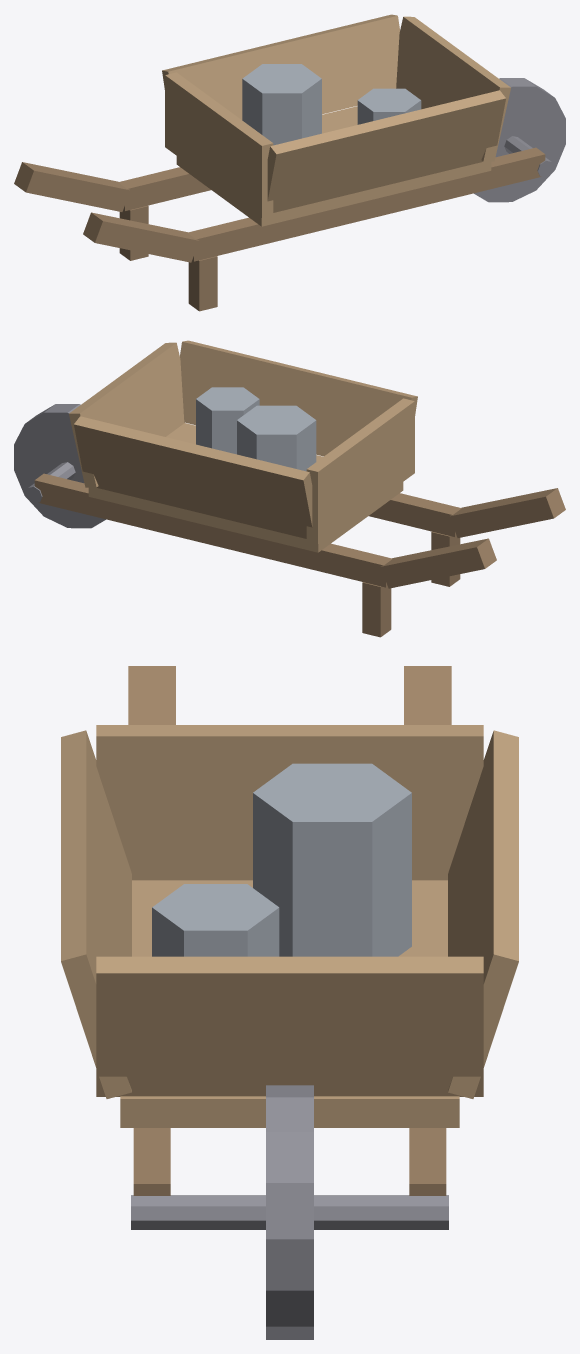
Rendered from 35-Mineria_carretilla_minero.glb.
The picture shows the model from 3 angles, top to bottom: view 1: azimuth 30°, elevation 25°; view 2: azimuth 150°, elevation 25°; view 3: azimuth 270°, elevation 25°; orthographic projection. The views are drawn at different scales.
Parts seen in each view (by area): view 1: SM_Carre_M_Carre_Madera, SM_Carre_M_Carre_Madera_Osc, SM_Carre_M_Carre_Mineral, SM_Carre_M_Carre_Hierro; view 2: SM_Carre_M_Carre_Madera, SM_Carre_M_Carre_Madera_Osc, SM_Carre_M_Carre_Mineral, SM_Carre_M_Carre_Hierro; view 3: SM_Carre_M_Carre_Madera, SM_Carre_M_Carre_Mineral, SM_Carre_M_Carre_Hierro, SM_Carre_M_Carre_Madera_Osc.
Part boxes in pixels (left/top/right/bottom): SM_Carre_M_Carre_Madera: left=162, top=14, right=510, bottom=226; SM_Carre_M_Carre_Madera_Osc: left=14, top=147, right=545, bottom=311; SM_Carre_M_Carre_Mineral: left=242, top=64, right=421, bottom=145; SM_Carre_M_Carre_Hierro: left=474, top=78, right=565, bottom=202; SM_Carre_M_Carre_Madera: left=69, top=340, right=417, bottom=552; SM_Carre_M_Carre_Madera_Osc: left=34, top=473, right=565, bottom=637; SM_Carre_M_Carre_Mineral: left=196, top=387, right=316, bottom=471; SM_Carre_M_Carre_Hierro: left=14, top=404, right=105, bottom=528; SM_Carre_M_Carre_Madera: left=61, top=725, right=518, bottom=1127; SM_Carre_M_Carre_Mineral: left=152, top=763, right=411, bottom=956; SM_Carre_M_Carre_Hierro: left=131, top=1085, right=448, bottom=1339; SM_Carre_M_Carre_Madera_Osc: left=128, top=666, right=451, bottom=1195.
Size of the model in its own units: 2.2 by 0.68 by 0.8641.
